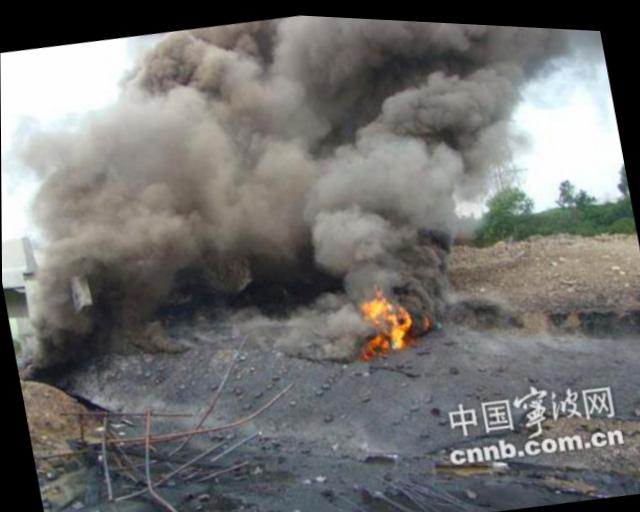fire: (383, 303, 409, 346), (358, 290, 387, 316), (357, 328, 386, 353)
